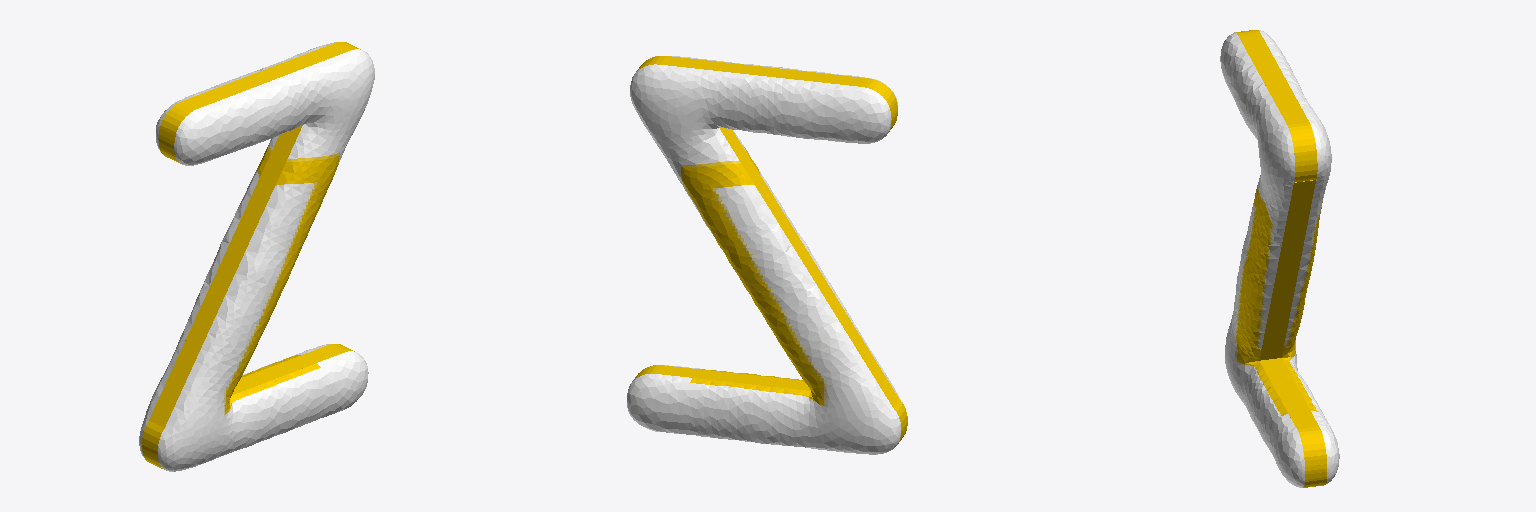
3 views of the same model, side by side, from view 1: azimuth 30°, elevation 25°; view 2: azimuth 150°, elevation 25°; view 3: azimuth 270°, elevation 25° (orthographic).
Bounding box in the file's own units: 51.98 × 73.17 × 21.7.
5 materials, 1 textured.